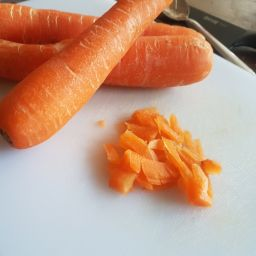Sliced carrots: (3, 4, 229, 222), (1, 2, 214, 96), (98, 102, 228, 231)
